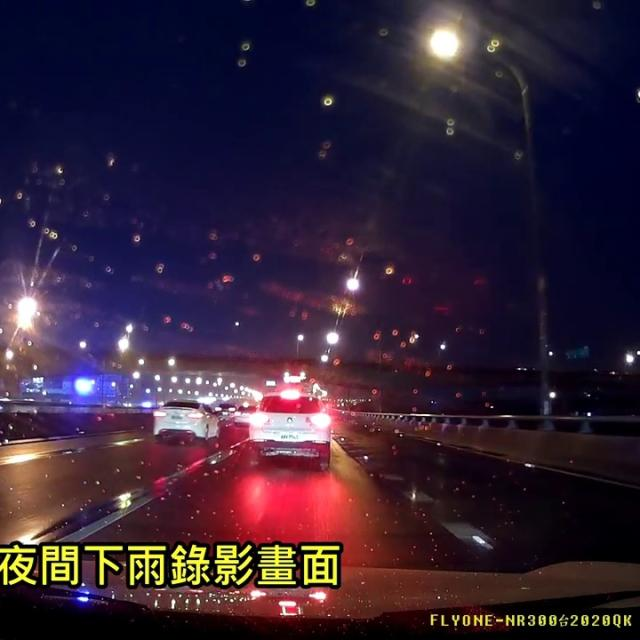Car: (245, 391, 332, 468), (150, 399, 220, 444), (233, 402, 255, 425), (211, 400, 236, 420)
